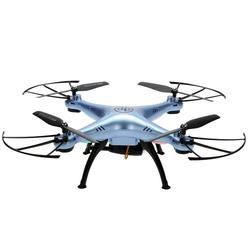drone: (1, 81, 247, 191)
